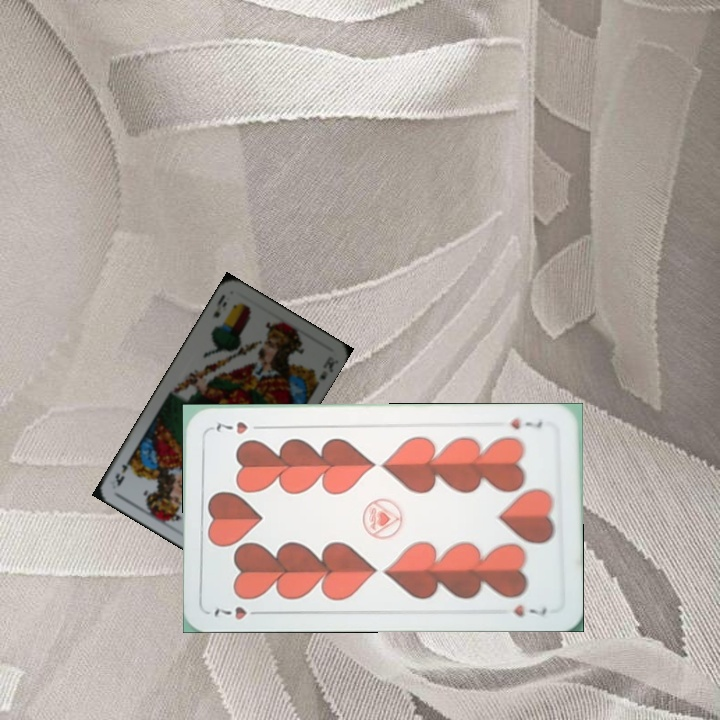EK: (209, 291, 230, 321)
H7: (210, 602, 267, 622), (506, 414, 545, 432)
